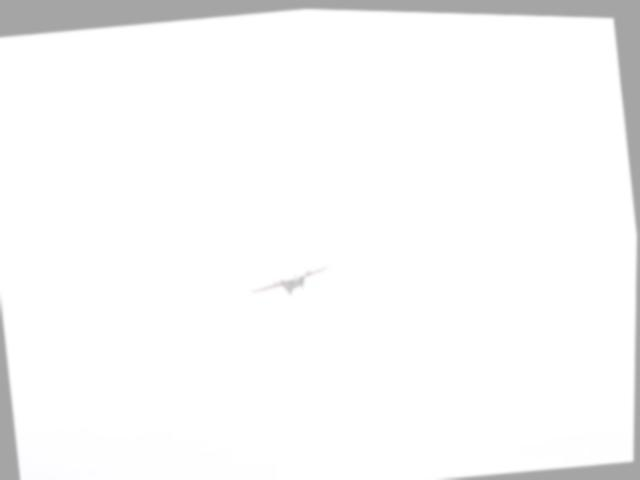iha: (248, 261, 331, 302)
